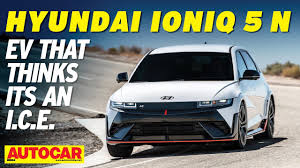Honda Ioniq: (100, 40, 280, 163)
